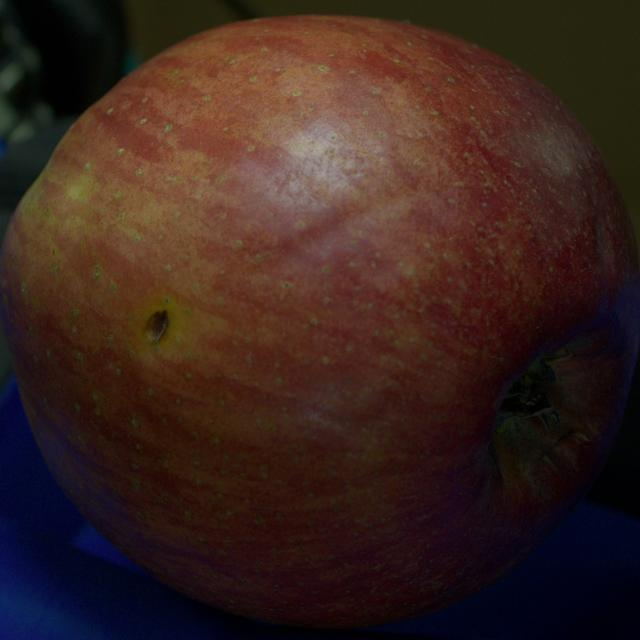apple: (0, 16, 639, 626)
bruise: (247, 185, 421, 275)
pest: (145, 309, 168, 344)
scratch: (547, 348, 574, 364), (556, 426, 575, 447), (542, 452, 560, 473), (577, 430, 591, 443)
